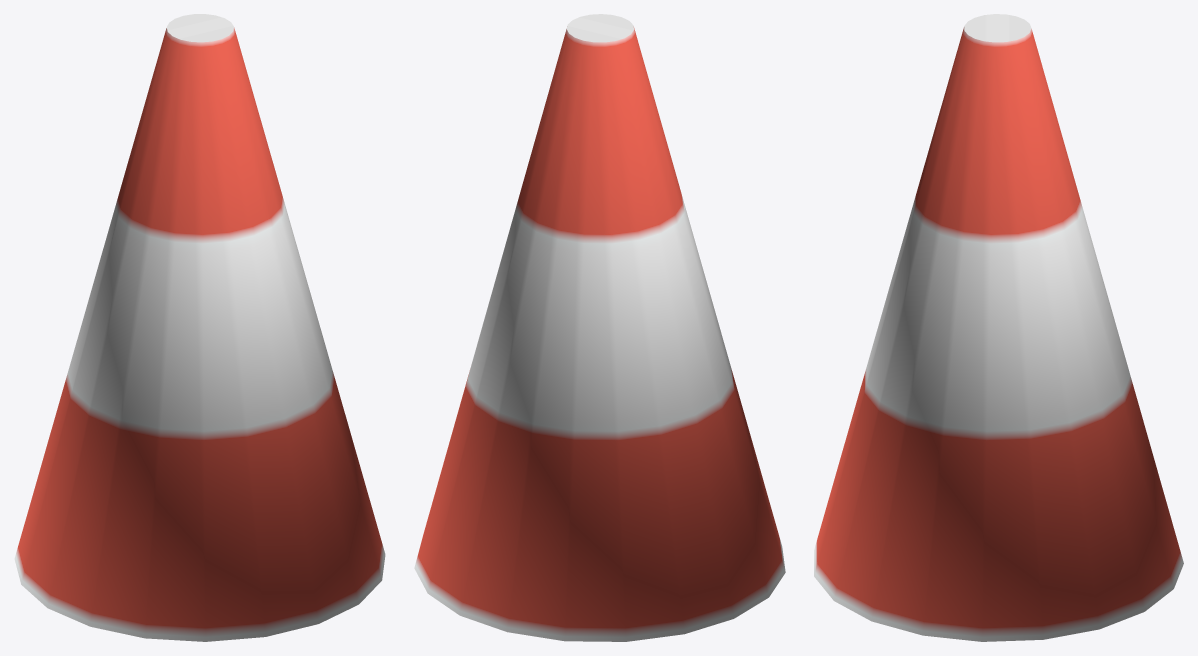
File: traffic_cone.obj
3 views of the same model, side by side, from view 1: azimuth 30°, elevation 25°; view 2: azimuth 150°, elevation 25°; view 3: azimuth 270°, elevation 25° (orthographic).
Parts seen in each view (by area): view 1: traffic_cone_traffic_cone_Material.001; view 2: traffic_cone_traffic_cone_Material.001; view 3: traffic_cone_traffic_cone_Material.001.
Boxes of the visible parts, x1,y1,x2,y2 form: traffic_cone_traffic_cone_Material.001: (14, 14, 385, 641); traffic_cone_traffic_cone_Material.001: (414, 14, 785, 641); traffic_cone_traffic_cone_Material.001: (814, 14, 1183, 641).
Bounding box in the file's own units: 1.26 × 2 × 1.25.
1 material, 1 textured.
